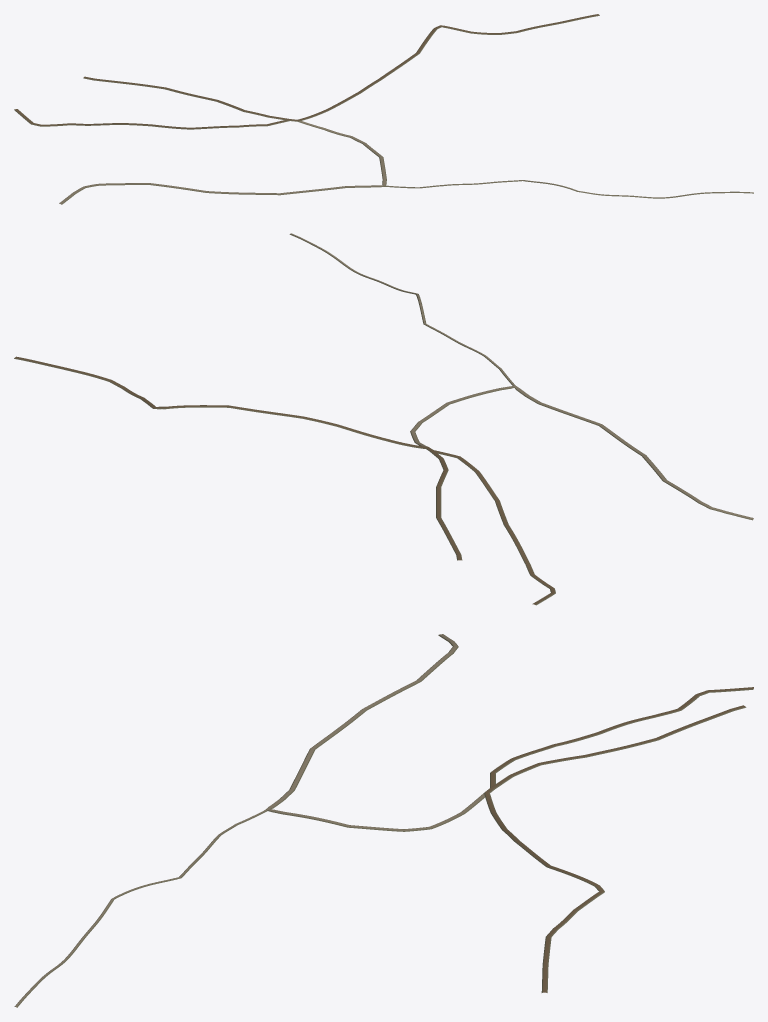
The picture shows the model from 3 angles, top to bottom: view 1: azimuth 30°, elevation 25°; view 2: azimuth 150°, elevation 25°; view 3: azimuth 270°, elevation 25°; orthographic projection. The views are drawn at different scales.
Visible parts, largest first — view 1: roads; view 2: roads; view 3: roads.
Part boxes in pixels (x1,y1,x2,y2): roads: (14, 14, 753, 204); roads: (14, 233, 753, 605); roads: (14, 634, 753, 1007).
Bounding box in the file's own units: 800 × 49.11 × 645.
